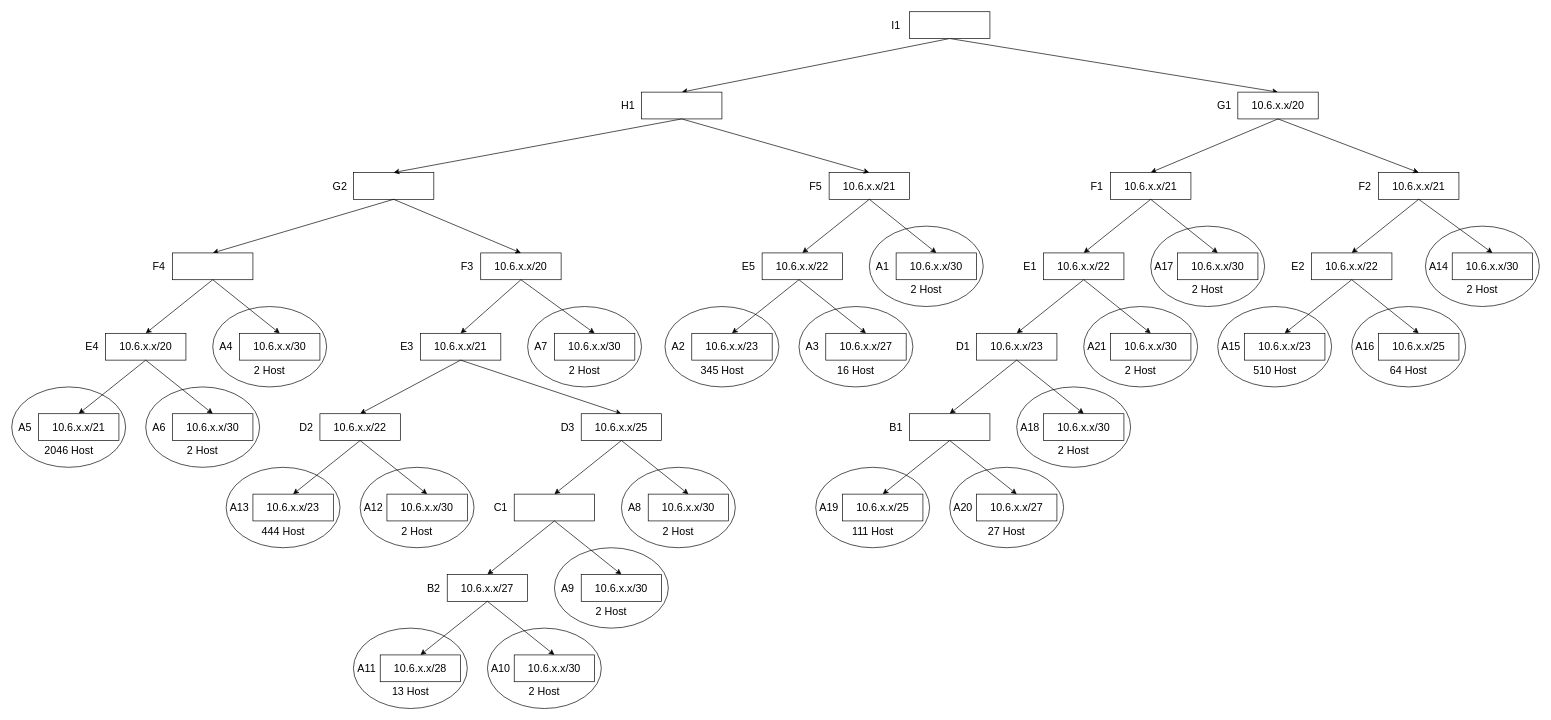
The diagram is 1551 pixels wide and 720 high, and some of its shapes have lost their labels. The box of each missing label's shape, as (x1, y1, x2, y2) in pixels:
10.6.x.x/16: (909, 11, 990, 39)
10.6.x.x/17: (641, 91, 722, 119)
10.6.x.x/18: (353, 172, 434, 199)
10.6.x.x/19: (172, 252, 253, 280)
10.6.x.x/24: (909, 413, 990, 441)
10.6.x.x/26: (514, 493, 595, 521)
